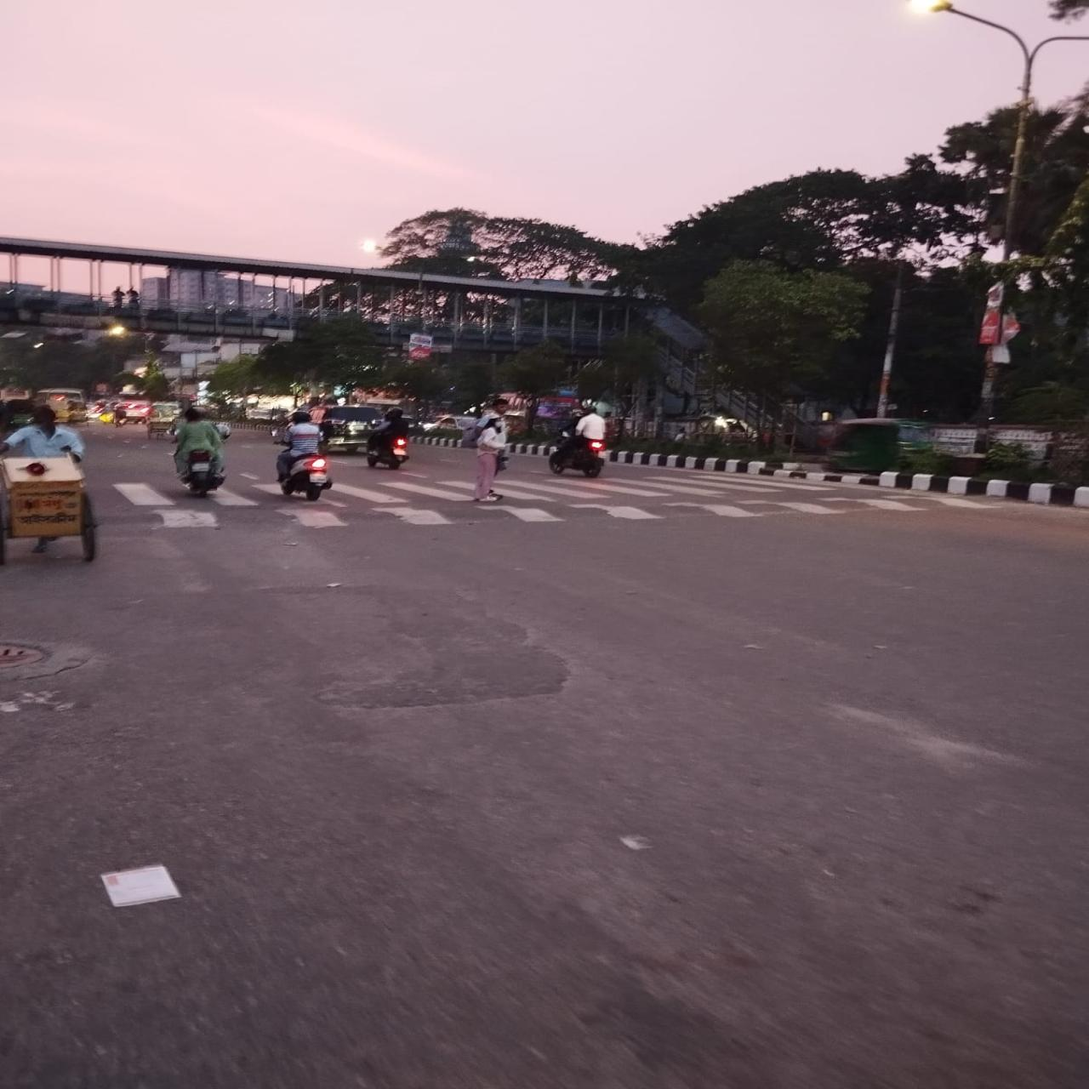person: (463, 397, 515, 501)
